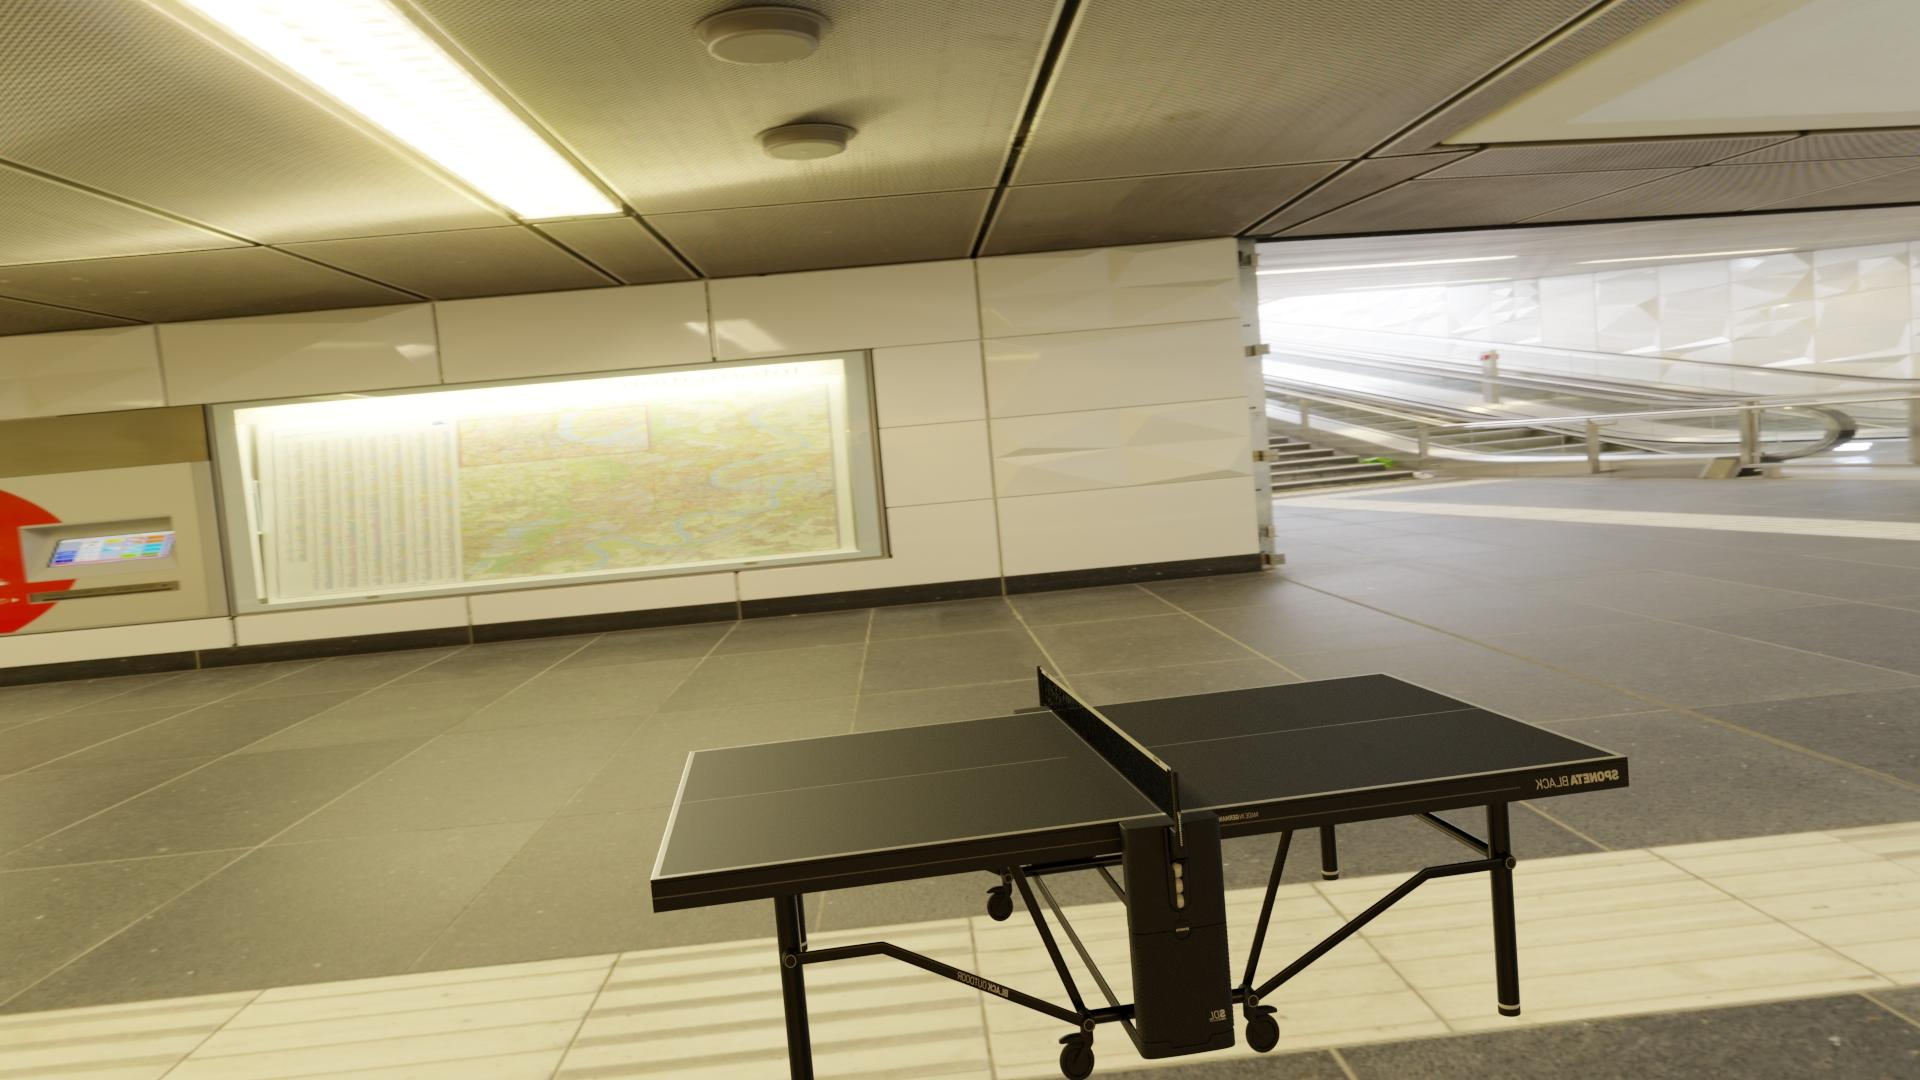table: (659, 674, 1617, 877)
